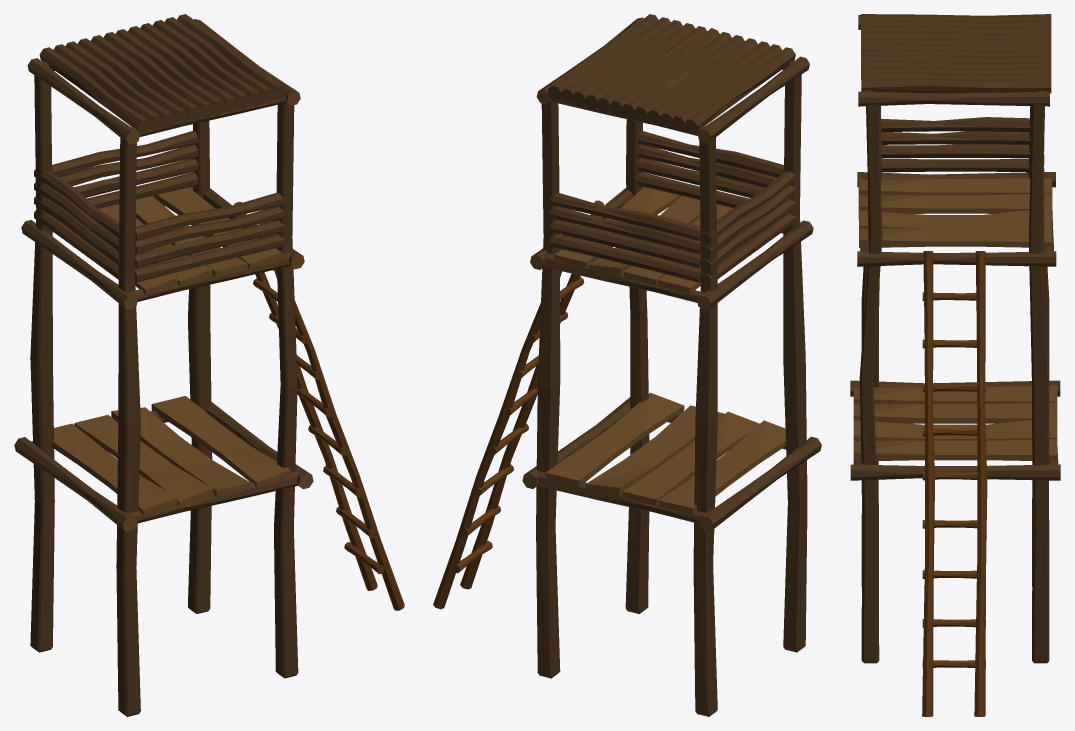
The picture shows the model from 3 angles, left to right: view 1: azimuth 30°, elevation 25°; view 2: azimuth 150°, elevation 25°; view 3: azimuth 270°, elevation 25°; orthographic projection. The views are drawn at different scales.
Parts seen in each view (by area): view 1: Object_5, Object_4, Object_6; view 2: Object_5, Object_4, Object_6; view 3: Object_5, Object_4, Object_6.
Part boxes in pixels (bbox=[...]): Object_5: bbox=[14, 14, 311, 716]; Object_4: bbox=[22, 65, 313, 531]; Object_6: bbox=[233, 201, 404, 610]; Object_5: bbox=[524, 14, 821, 716]; Object_4: bbox=[522, 63, 813, 531]; Object_6: bbox=[433, 200, 603, 609]; Object_5: bbox=[850, 14, 1060, 663]; Object_4: bbox=[853, 177, 1057, 461]; Object_6: bbox=[922, 251, 987, 716].
Size of the model in its own units: 313 by 555 by 183.
